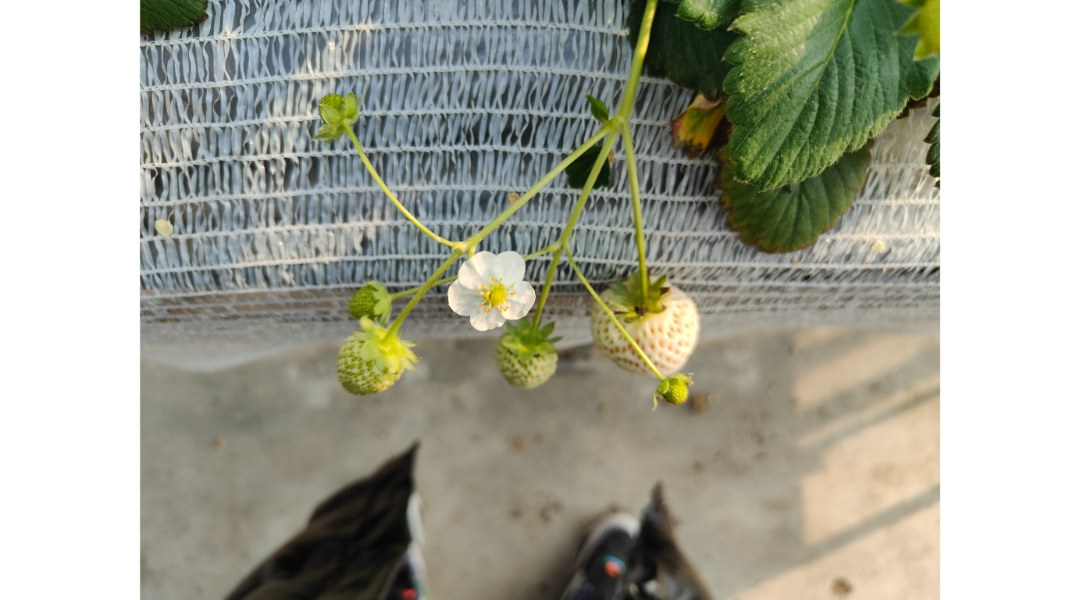berry: (580, 260, 703, 384), (325, 322, 421, 409), (482, 312, 566, 395), (308, 78, 367, 149), (340, 265, 387, 331), (647, 368, 699, 414)
flower: (438, 243, 542, 335)
strain: (348, 132, 456, 251), (610, 0, 668, 98), (622, 142, 652, 298), (479, 173, 557, 232)
